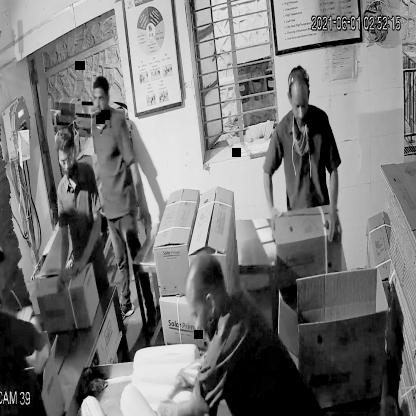goggles: (57, 147, 78, 172)
no_goggles: (288, 90, 311, 117)
